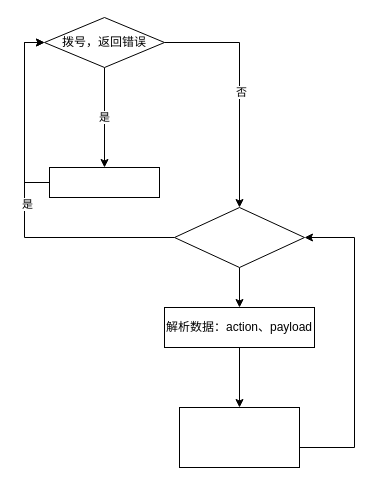
Image size: 380x485. Some labels were removed from this diagram. Here are the shapes that lost their labels. From the top down, the centre of each, then its label:
the point at 104,182: 休眠
the point at 239,237: 读取数据，返回错误
